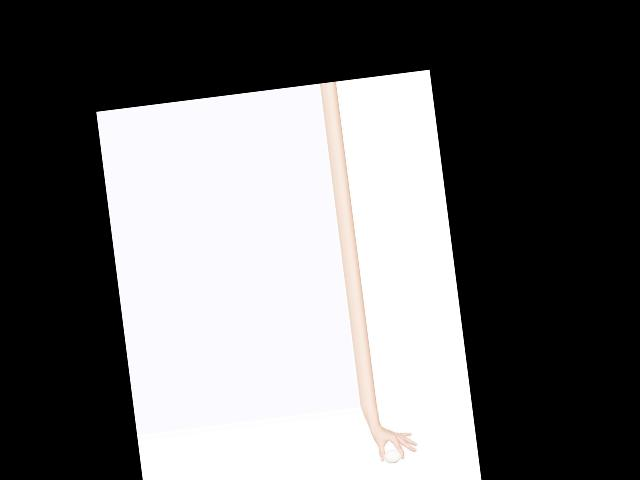egg: (382, 449, 401, 464)
